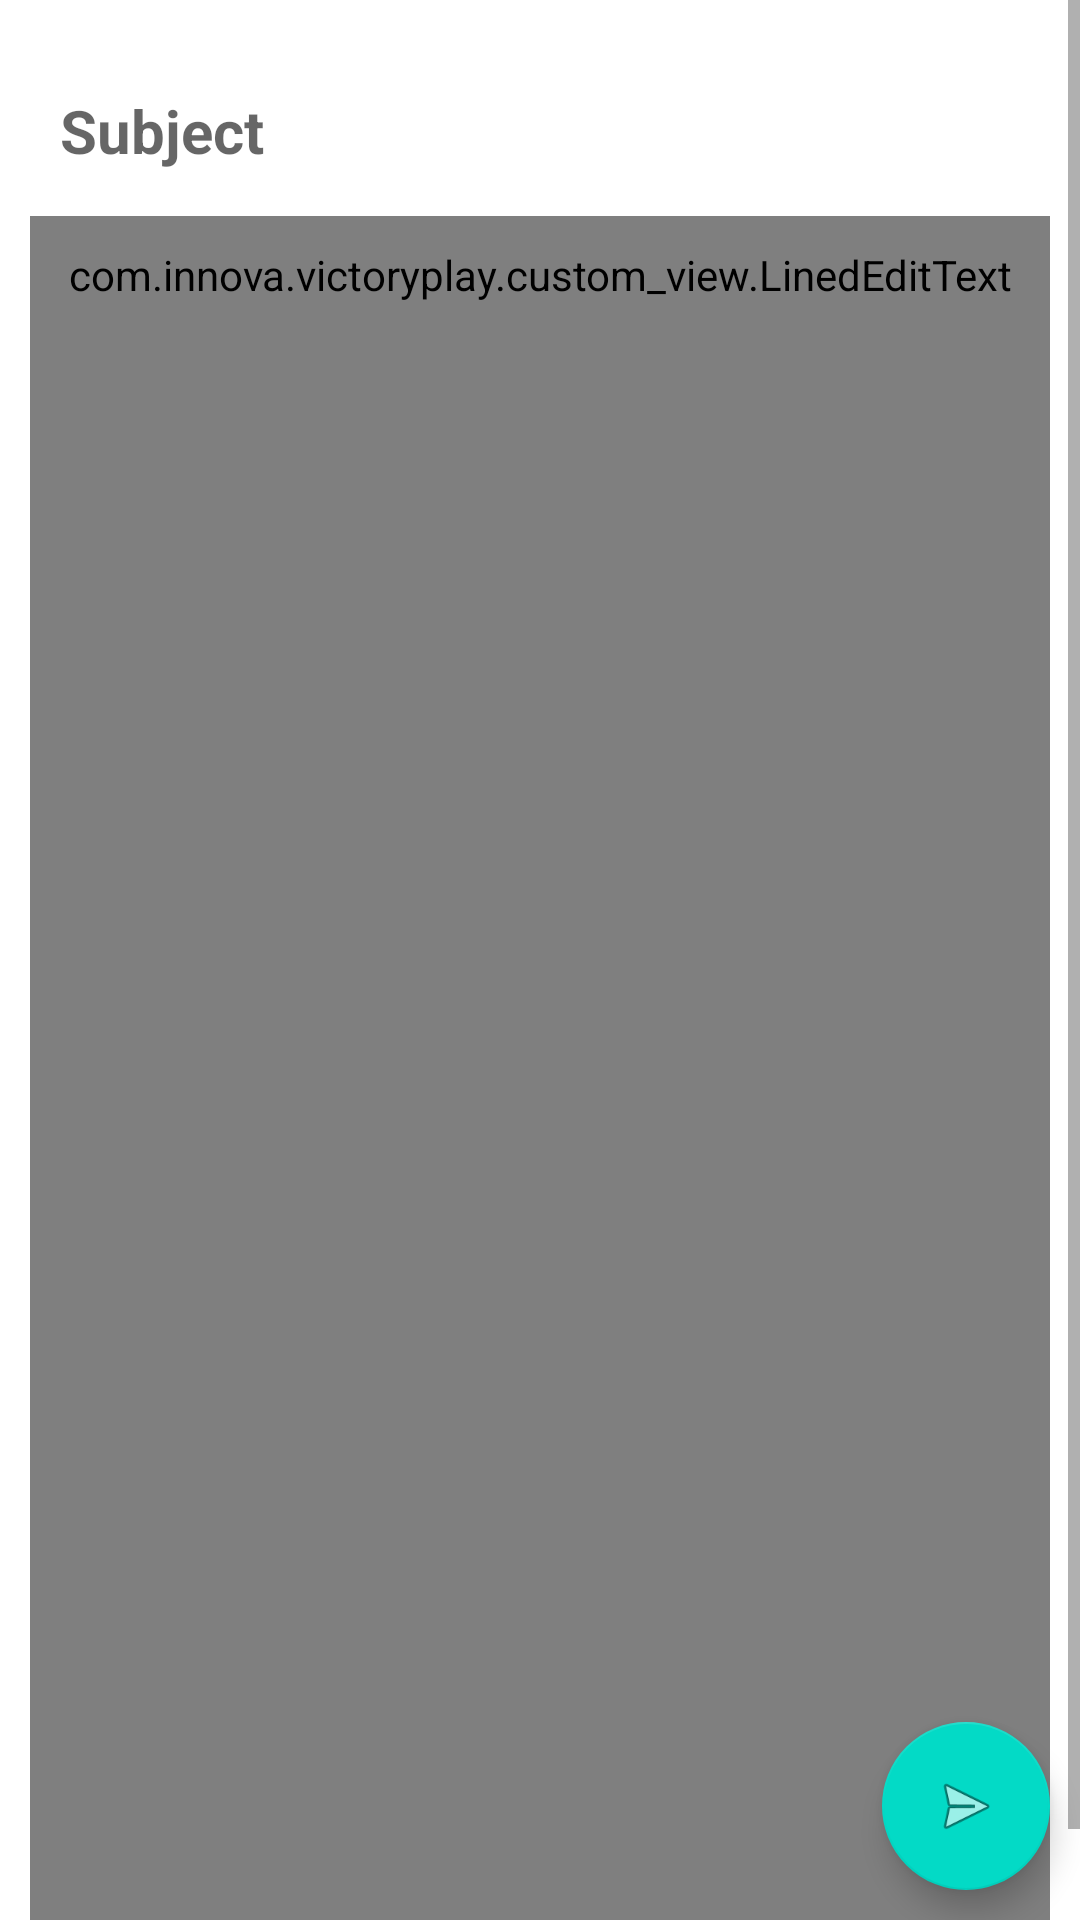

Where icons sit on this 1080x1920 app screen, as (x1, y1, x2, y2):
send: (882, 1722, 1050, 1890)
